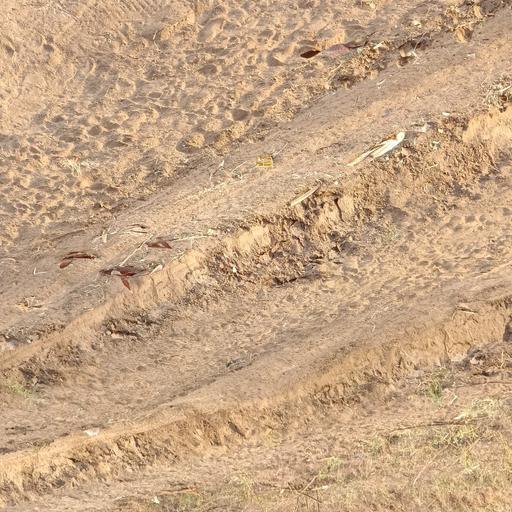vehicle_track: (0, 9, 512, 353), (0, 173, 512, 452)
